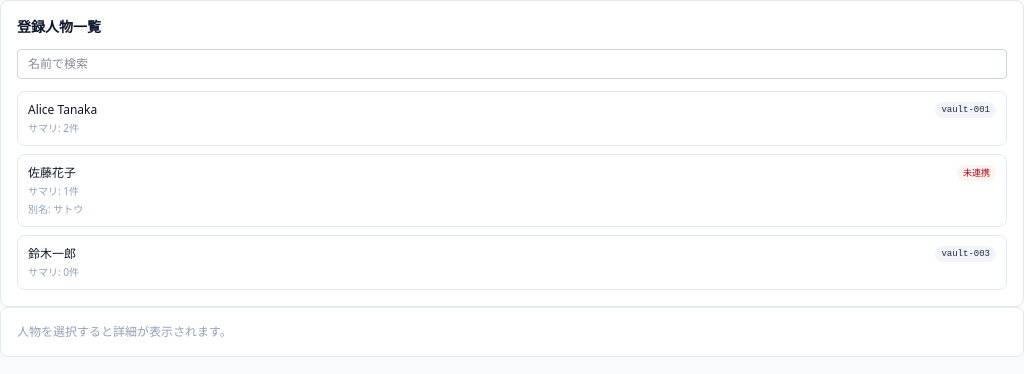
Test: PeopleListTab 検索ボックス › 別名だけに一致する語句でも対象人物がヒットする
# p2 の別名「サトウ」は表示名「佐藤花子」・正規化名「佐藤花子」のいずれにも含まれない
Type "サトウ" into the search field named "人物名で検索" at x=512, y=64, box left=17, top=49, right=1007, bottom=79
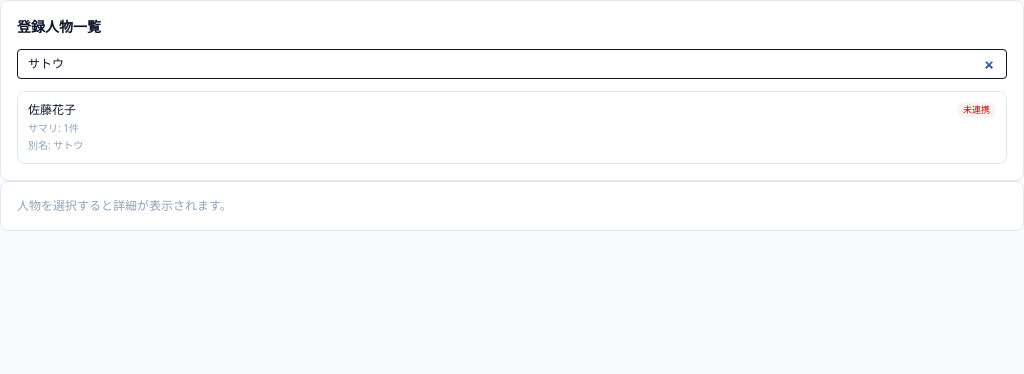
Expected: the button "佐藤花子 未連携 サマリ: 1件 別名: サトウ" is shown, left=17, top=91, right=1007, bottom=164
Result: the button "Alice Tanaka" is gone
Result: the button "鈴木一郎" is gone
